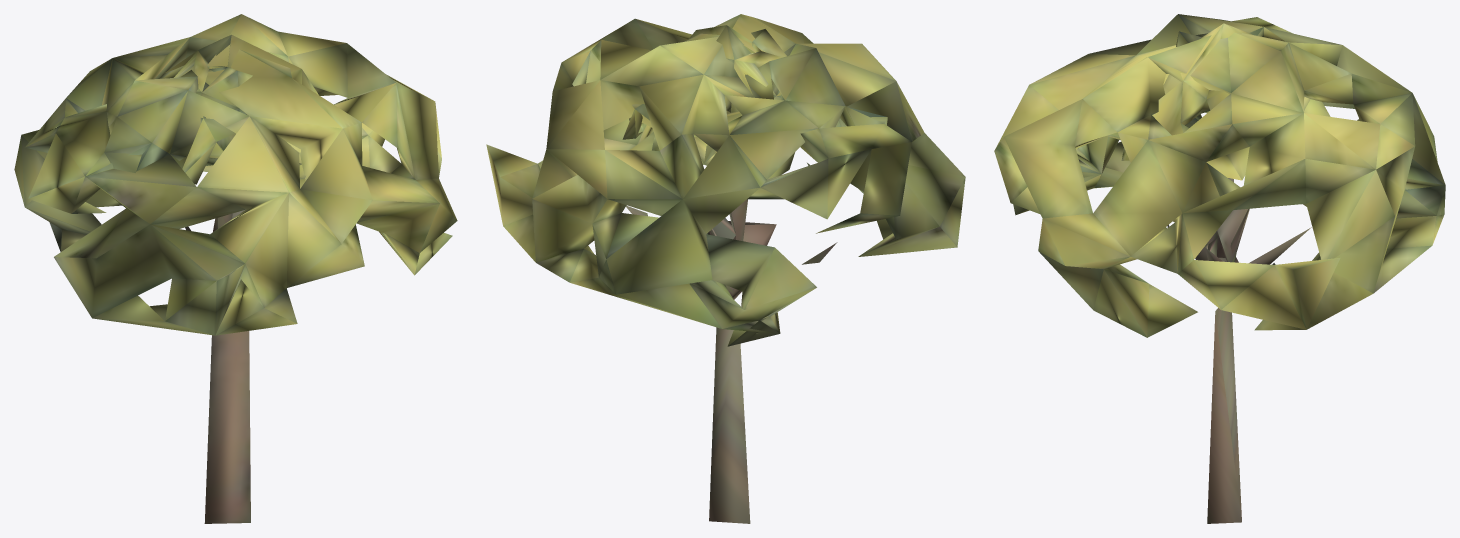
The model's file is tree_round_a_far.glb.
3 views of the same model, side by side, from view 1: azimuth 30°, elevation 25°; view 2: azimuth 150°, elevation 25°; view 3: azimuth 270°, elevation 25° (orthographic). The views are drawn at different scales.
Parts seen in each view (by area): view 1: body; view 2: body; view 3: body.
Boxes of the visible parts, x1=… form: body: x1=14, y1=14, x2=457, y2=523; body: x1=486, y1=14, x2=965, y2=523; body: x1=994, y1=14, x2=1445, y2=523.
Size of the model in its own units: 4.64 by 5.41 by 4.47.
2 materials, 2 textured.
